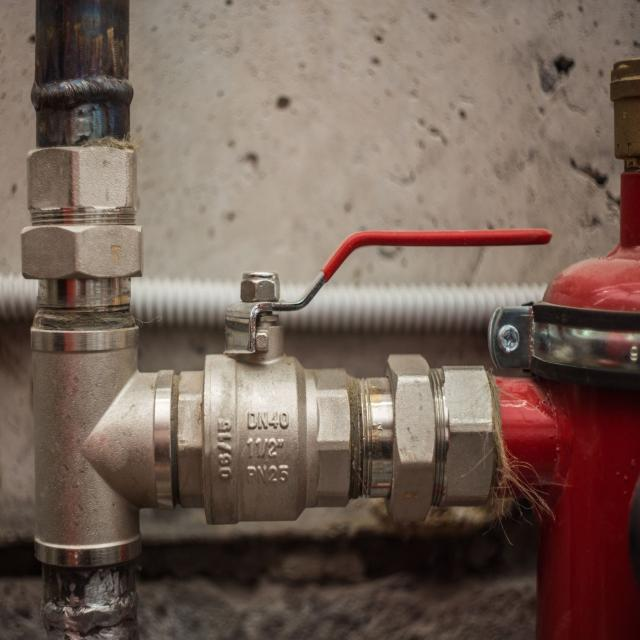Lever Handle Valve Threaded: (181, 225, 569, 364)
